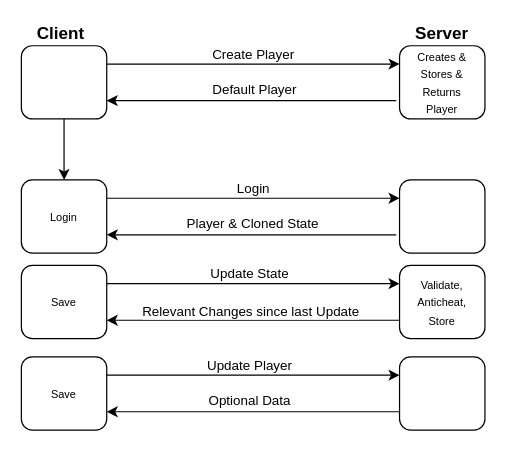
The diagram is 506 pixels wide and 451 high, and some of its shapes have lost their labels. Each missing label, with the box of its shape:
Clones Active State, Returns clone: (398, 179, 485, 253)
Register Player: (20, 45, 107, 119)
Validate, Store: (398, 356, 485, 430)
